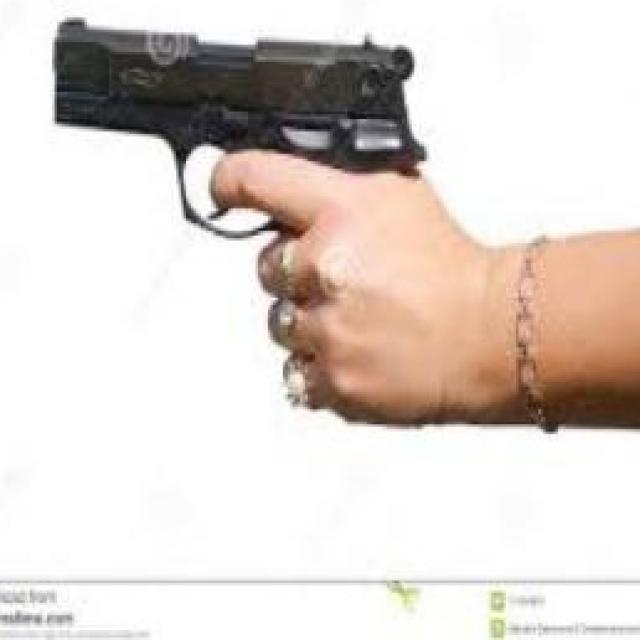pistol: (49, 0, 437, 437)
